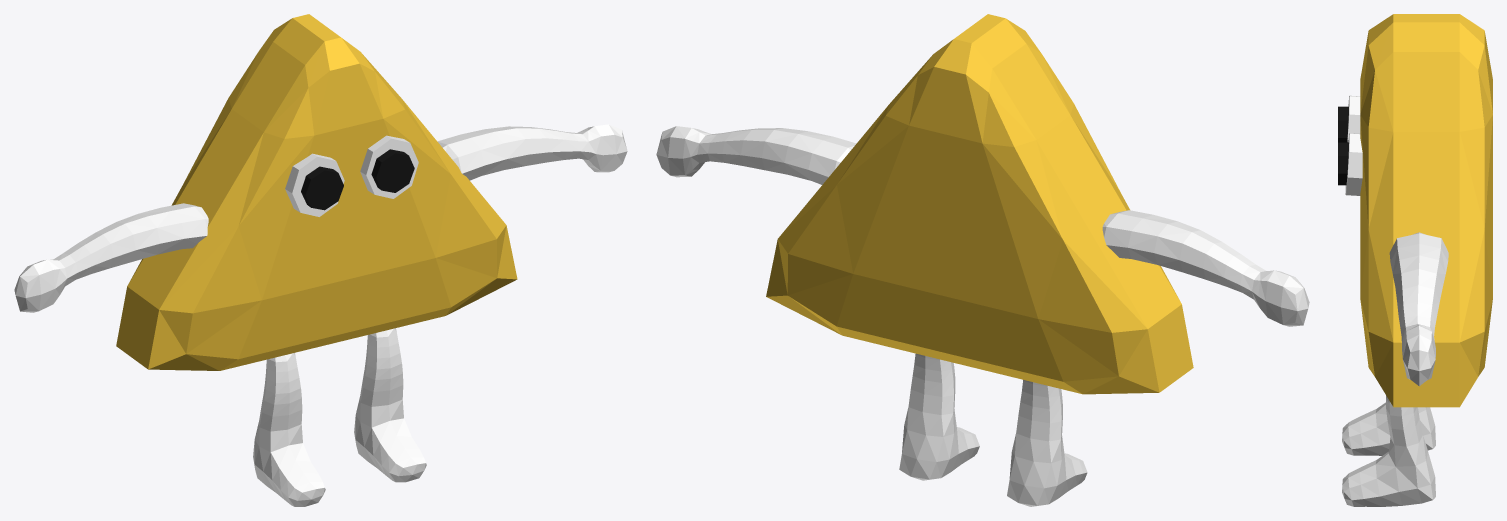
Rendered from triangleman_final.dae.
3 views of the same model, side by side, from view 1: azimuth 30°, elevation 25°; view 2: azimuth 150°, elevation 25°; view 3: azimuth 270°, elevation 25° (orthographic). The views are drawn at different scales.
Visible parts, largest first — view 1: Cube-S3D-32, Cube-S3D-31, Cube-S3D-39, leg_r-S3D-34, leg_l-S3D-33, eyewhhite-S3D-37, eyewhhite-S3D-35, Cylinder-S3D-36, Cylinder-S3D-38; view 2: Cube-S3D-32, Cube-S3D-31, Cube-S3D-39, leg_r-S3D-34, leg_l-S3D-33; view 3: Cube-S3D-32, Cube-S3D-39, leg_r-S3D-34, leg_l-S3D-33, eyewhhite-S3D-35, eyewhhite-S3D-37, Cylinder-S3D-36, Cylinder-S3D-38.
Boxes of the visible parts, bbox=[...] form: Cube-S3D-32: bbox=[116, 14, 517, 370]; Cube-S3D-31: bbox=[14, 203, 208, 312]; Cube-S3D-39: bbox=[437, 124, 627, 180]; leg_r-S3D-34: bbox=[354, 328, 426, 482]; leg_l-S3D-33: bbox=[253, 353, 325, 506]; eyewhhite-S3D-37: bbox=[285, 153, 344, 216]; eyewhhite-S3D-35: bbox=[360, 135, 418, 198]; Cylinder-S3D-36: bbox=[371, 149, 414, 192]; Cylinder-S3D-38: bbox=[301, 166, 343, 210]; Cube-S3D-32: bbox=[766, 14, 1193, 394]; Cube-S3D-31: bbox=[1102, 210, 1309, 326]; Cube-S3D-39: bbox=[656, 126, 856, 184]; leg_r-S3D-34: bbox=[899, 353, 979, 480]; leg_l-S3D-33: bbox=[1007, 380, 1087, 506]; Cube-S3D-32: bbox=[1360, 14, 1492, 407]; Cube-S3D-39: bbox=[1389, 232, 1448, 386]; leg_r-S3D-34: bbox=[1342, 395, 1435, 506]; leg_l-S3D-33: bbox=[1342, 402, 1435, 455]; eyewhhite-S3D-35: bbox=[1345, 133, 1362, 195]; eyewhhite-S3D-37: bbox=[1347, 95, 1360, 142]; Cylinder-S3D-36: bbox=[1338, 142, 1348, 185]; Cylinder-S3D-38: bbox=[1338, 106, 1348, 142].
Bounding box in the file's own units: 4.2 × 2.9 × 0.8909.
